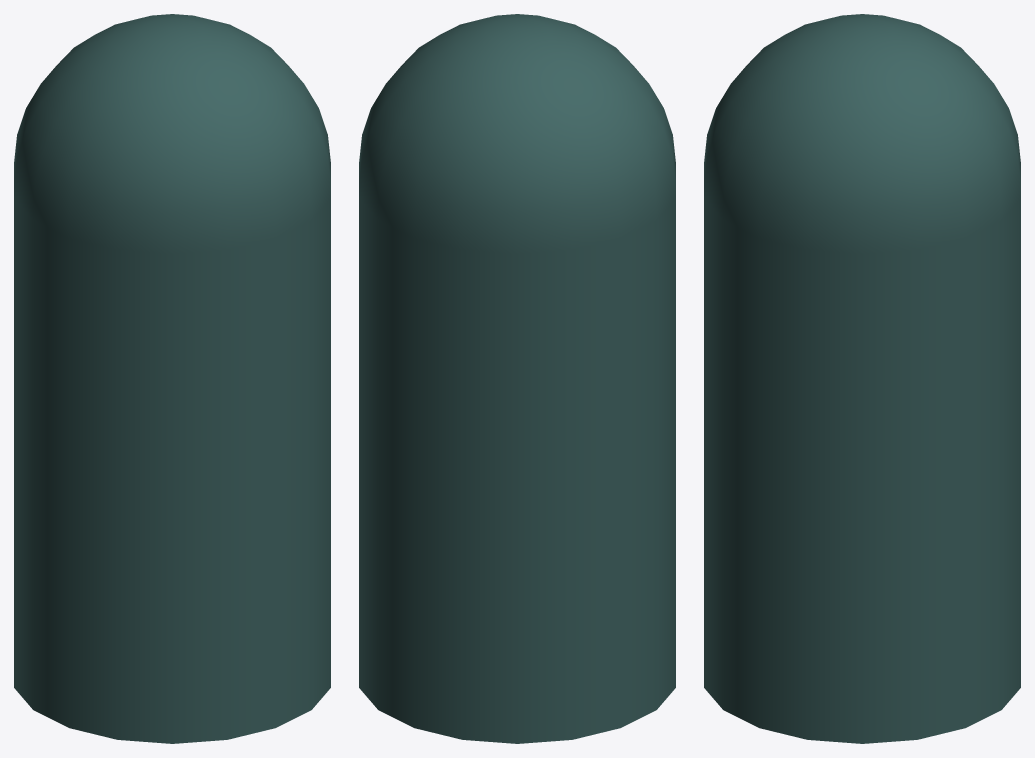
File: NodeRed.fbx
The picture shows the model from 3 angles, left to right: view 1: azimuth 30°, elevation 25°; view 2: azimuth 150°, elevation 25°; view 3: azimuth 270°, elevation 25°; orthographic projection.
Parts seen in each view (by area): view 1: Node, Cap1; view 2: Node, Cap1; view 3: Node, Cap1.
Boxes of the visible parts, x1=… form: Node: x1=14, y1=233, x2=330, y2=743; Cap1: x1=14, y1=14, x2=330, y2=288; Node: x1=359, y1=233, x2=675, y2=743; Cap1: x1=359, y1=14, x2=675, y2=288; Node: x1=704, y1=233, x2=1020, y2=743; Cap1: x1=704, y1=14, x2=1020, y2=288.
Size of the model in its own units: 152 by 337 by 150.
